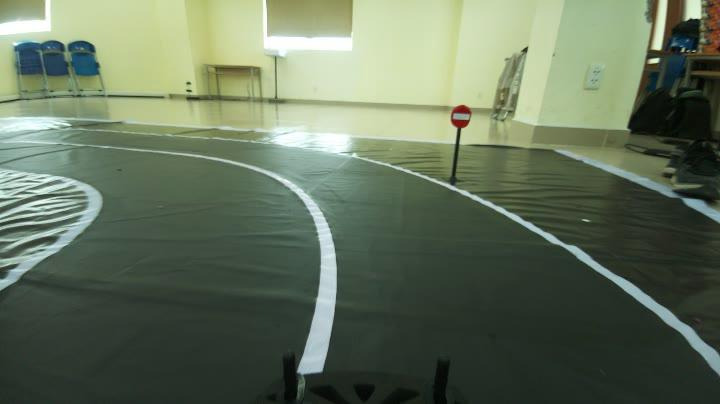no_entry: (447, 102, 477, 128)
